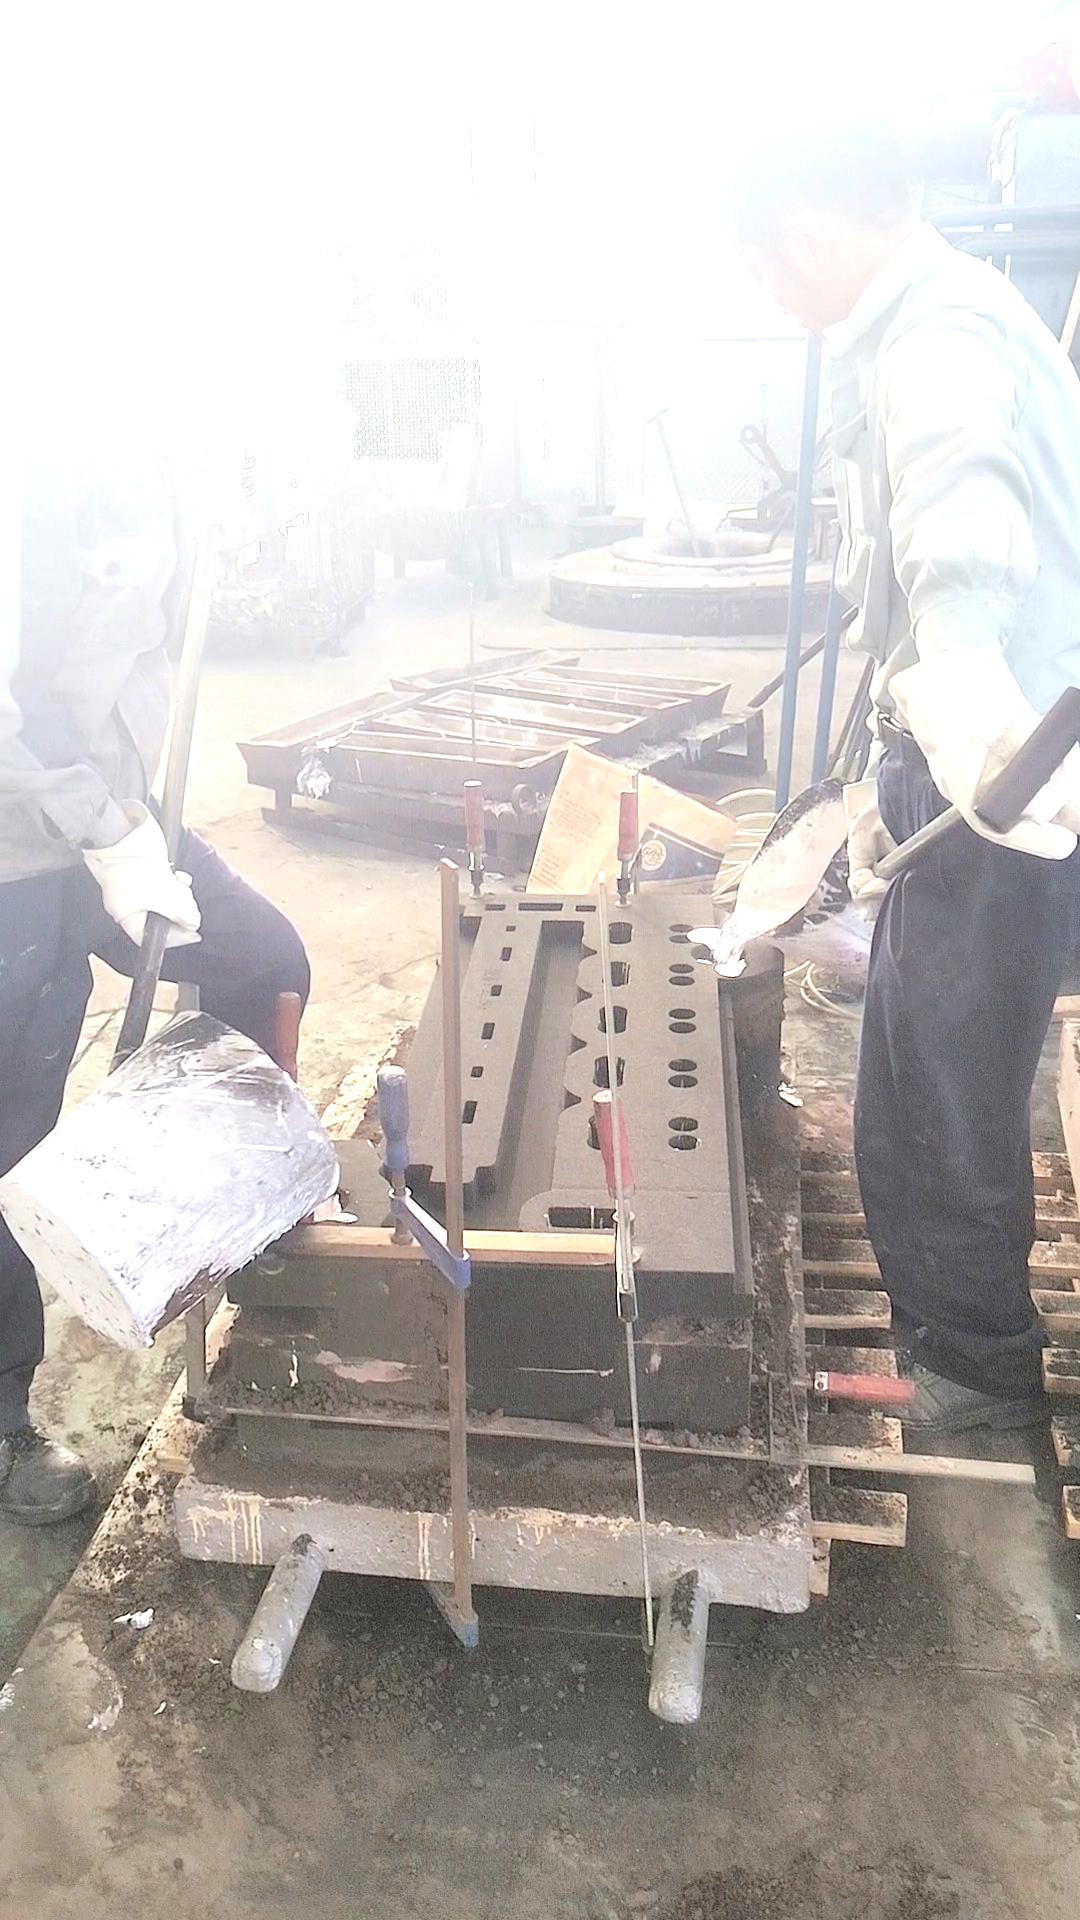pouring hole: (284, 1182, 349, 1226), (688, 942, 746, 967)
